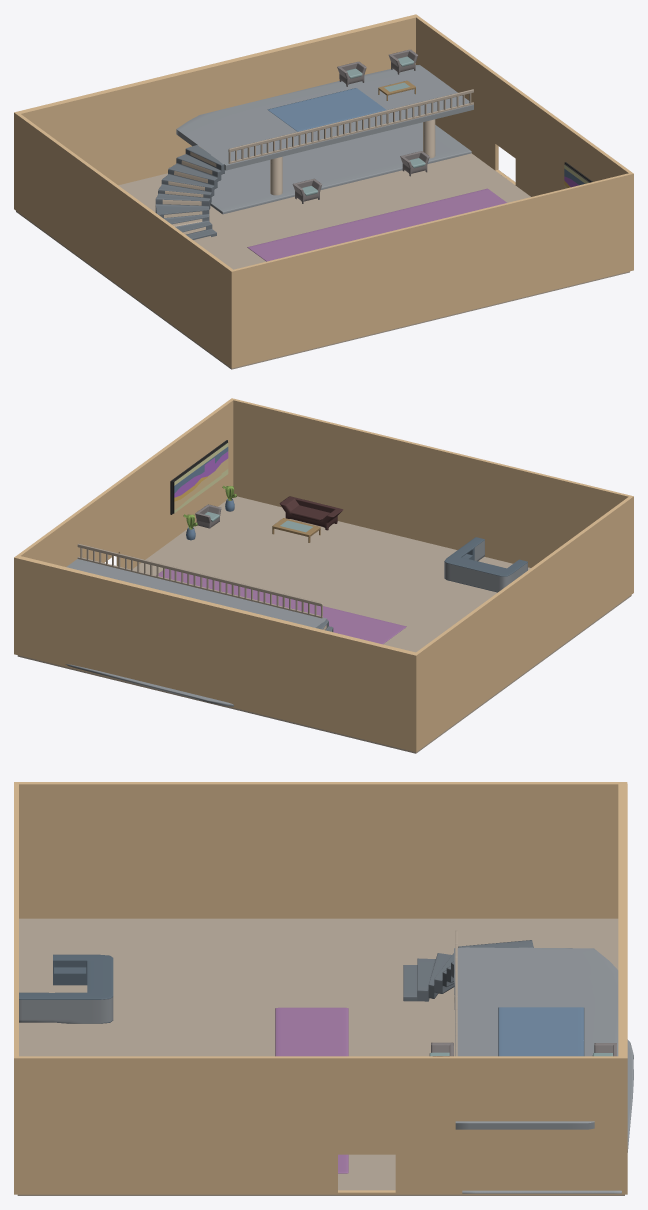
File: UpdatedLobby.fbx
3 views of the same model, one above another, from view 1: azimuth 30°, elevation 25°; view 2: azimuth 150°, elevation 25°; view 3: azimuth 270°, elevation 25° (orthographic). The views are drawn at different scales.
Parts seen in each view (by area): view 1: pPlane6; view 2: pPlane6; view 3: pPlane6.
Boxes of the visible parts, x1=… form: pPlane6: x1=14, y1=14, x2=633, y2=369; pPlane6: x1=14, y1=398, x2=633, y2=753; pPlane6: x1=14, y1=782, x2=633, y2=1195.
Size of the model in its own units: 71.8 by 17.29 by 67.79.
